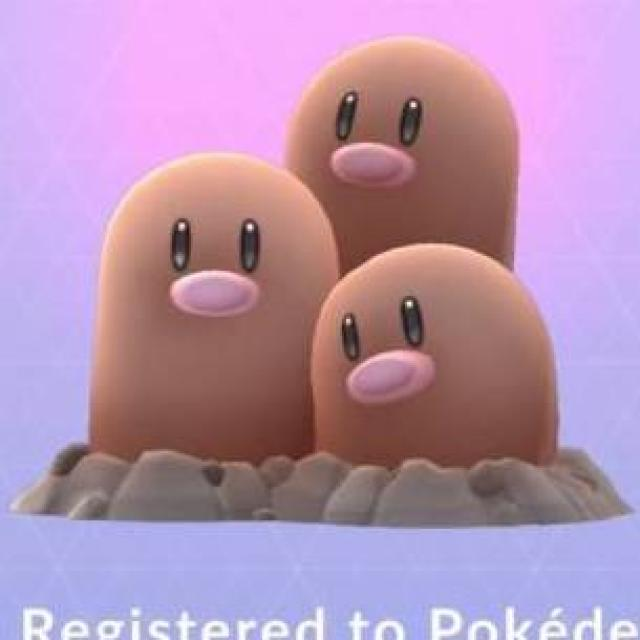Dugtrio: (91, 37, 567, 509)
